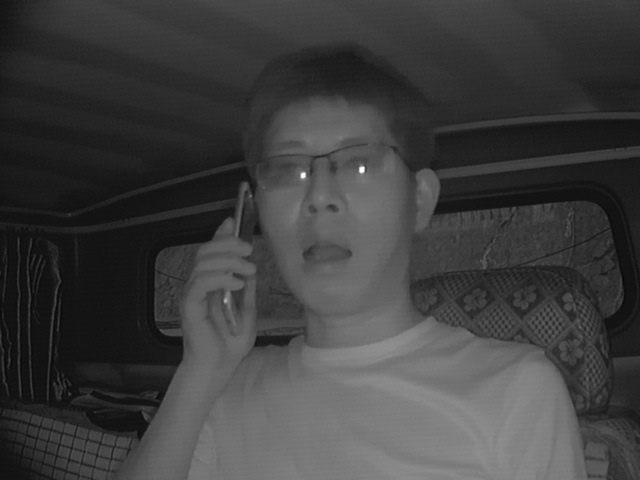hand: (173, 215, 265, 374)
